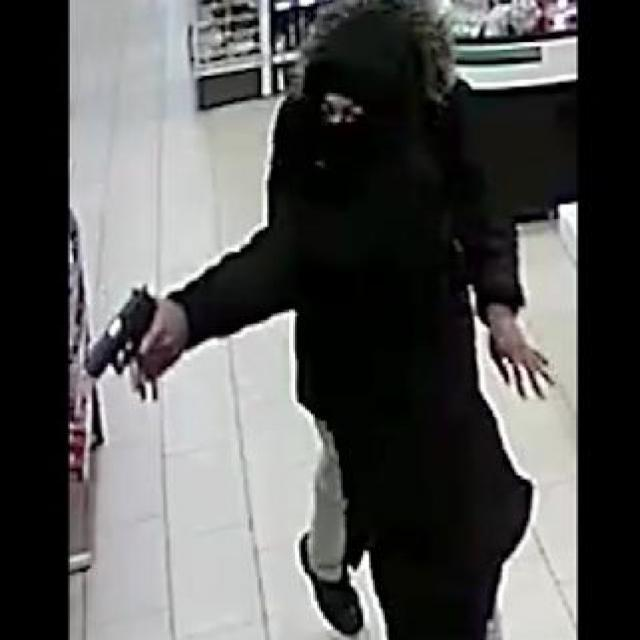Gun: (86, 283, 178, 383)
